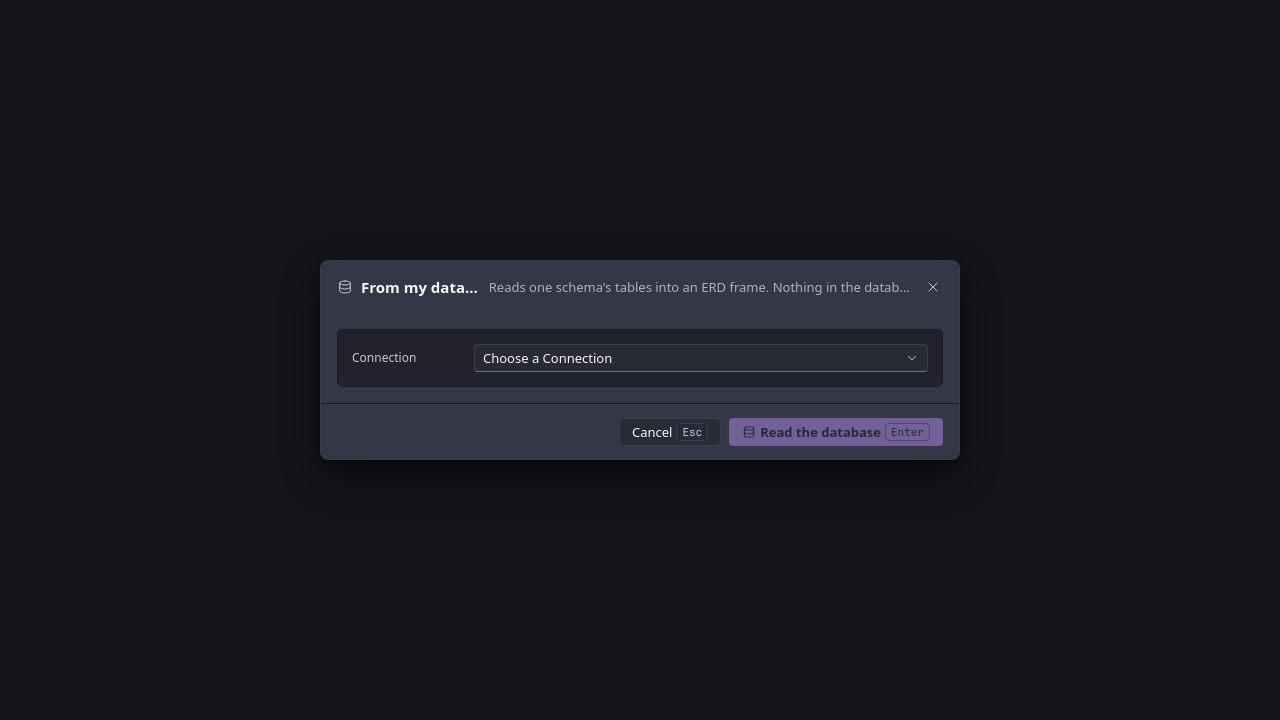
Test: a_read_that_fails_shows_in_the_dialog
Click the dropdown labelled "Connection" at (548, 358), box 474,344 -> 928,372
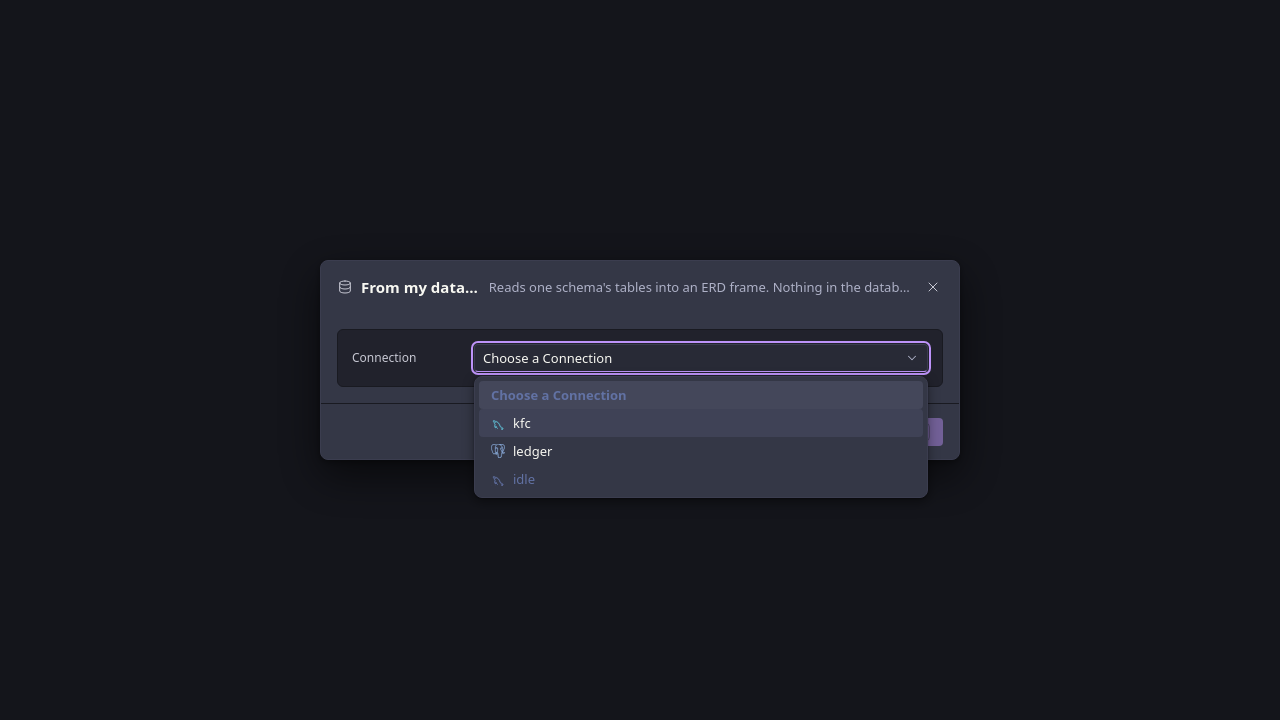
Click the option "kfc" at (498, 423), box 479,409 -> 923,437
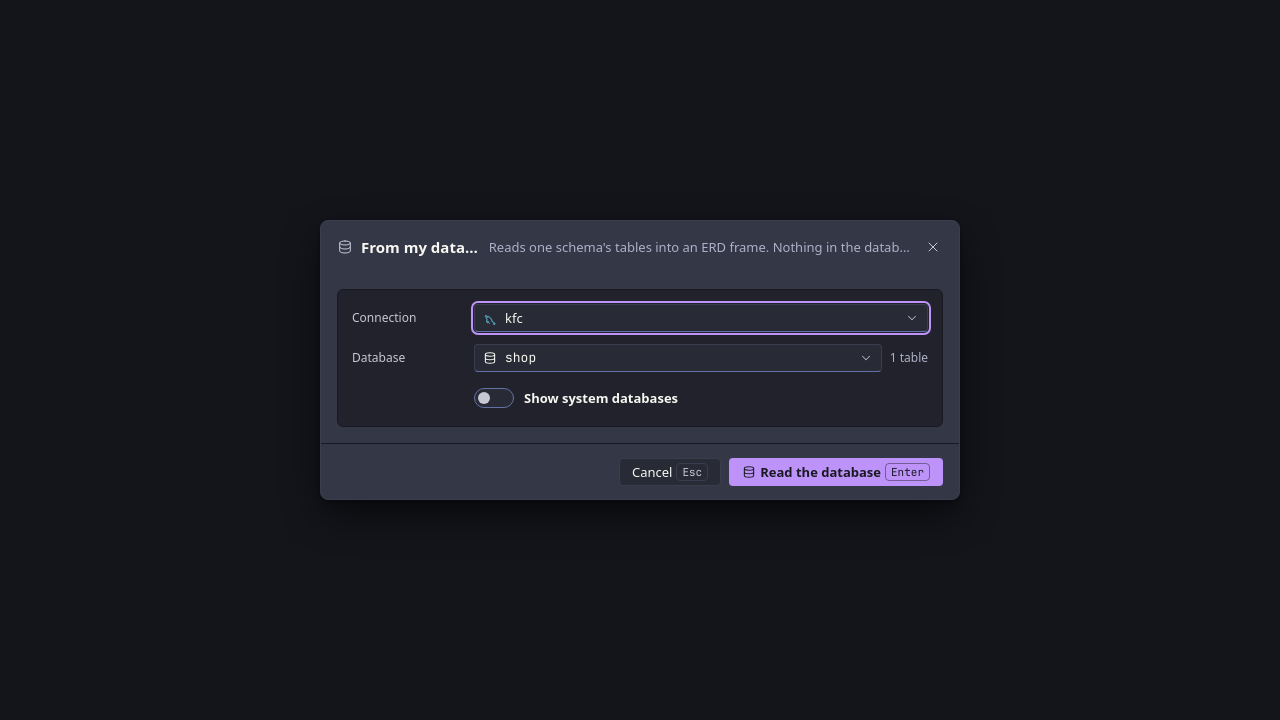
Now the text "1 table" is shown, box 890,350 -> 928,366
Click the button "Read the database Enter" at (836, 472), box 729,458 -> 943,486
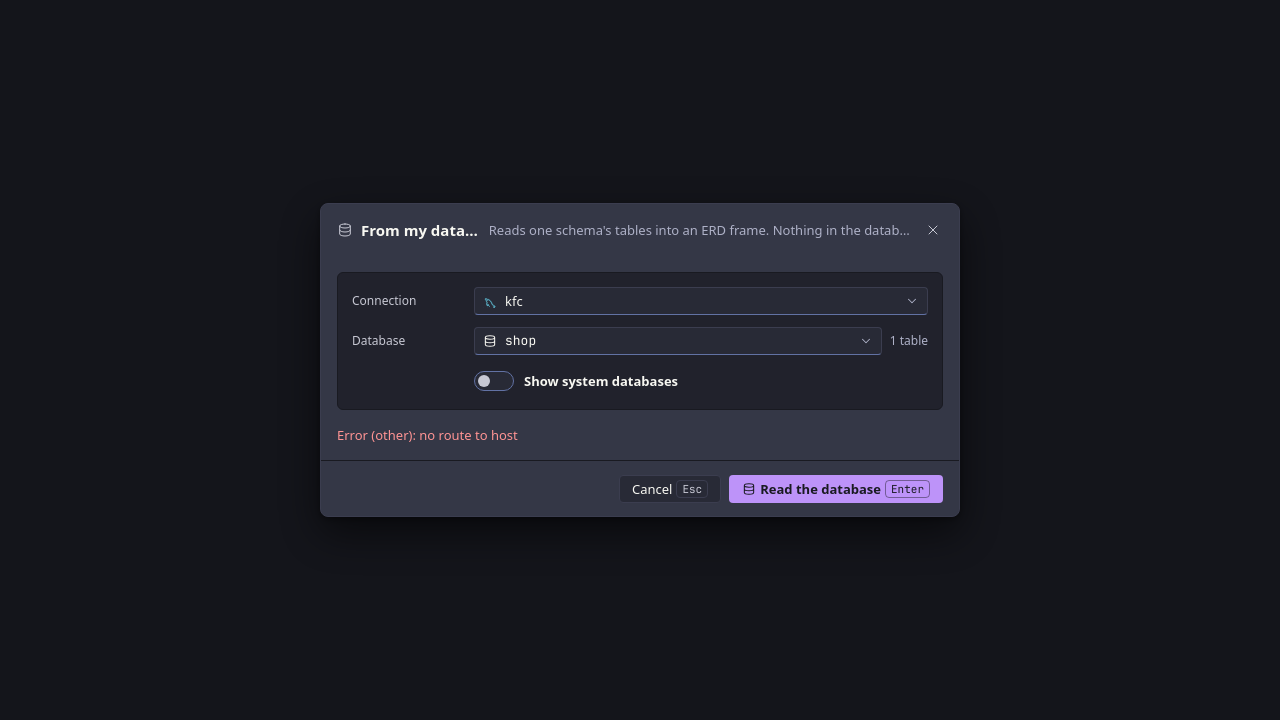
Now the message shows "no route to host", box 337,426 -> 518,444
